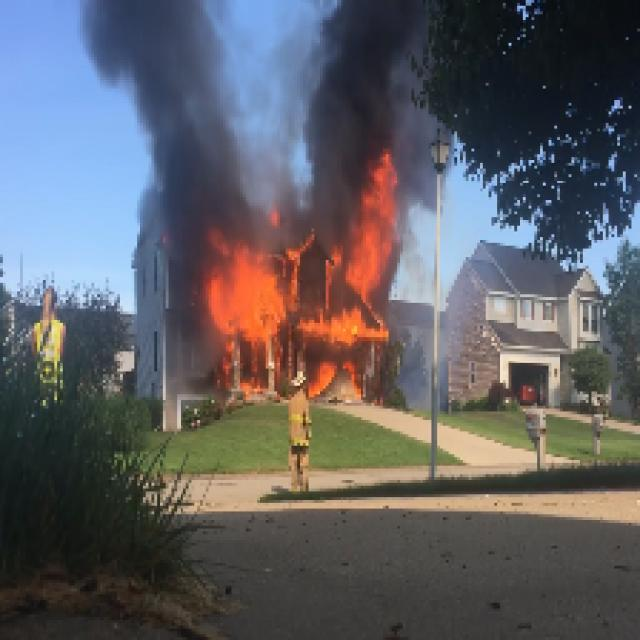Fire: (206, 248, 386, 340), (346, 160, 406, 286)
Smoke: (94, 2, 257, 218), (266, 3, 423, 143), (280, 146, 340, 223)
